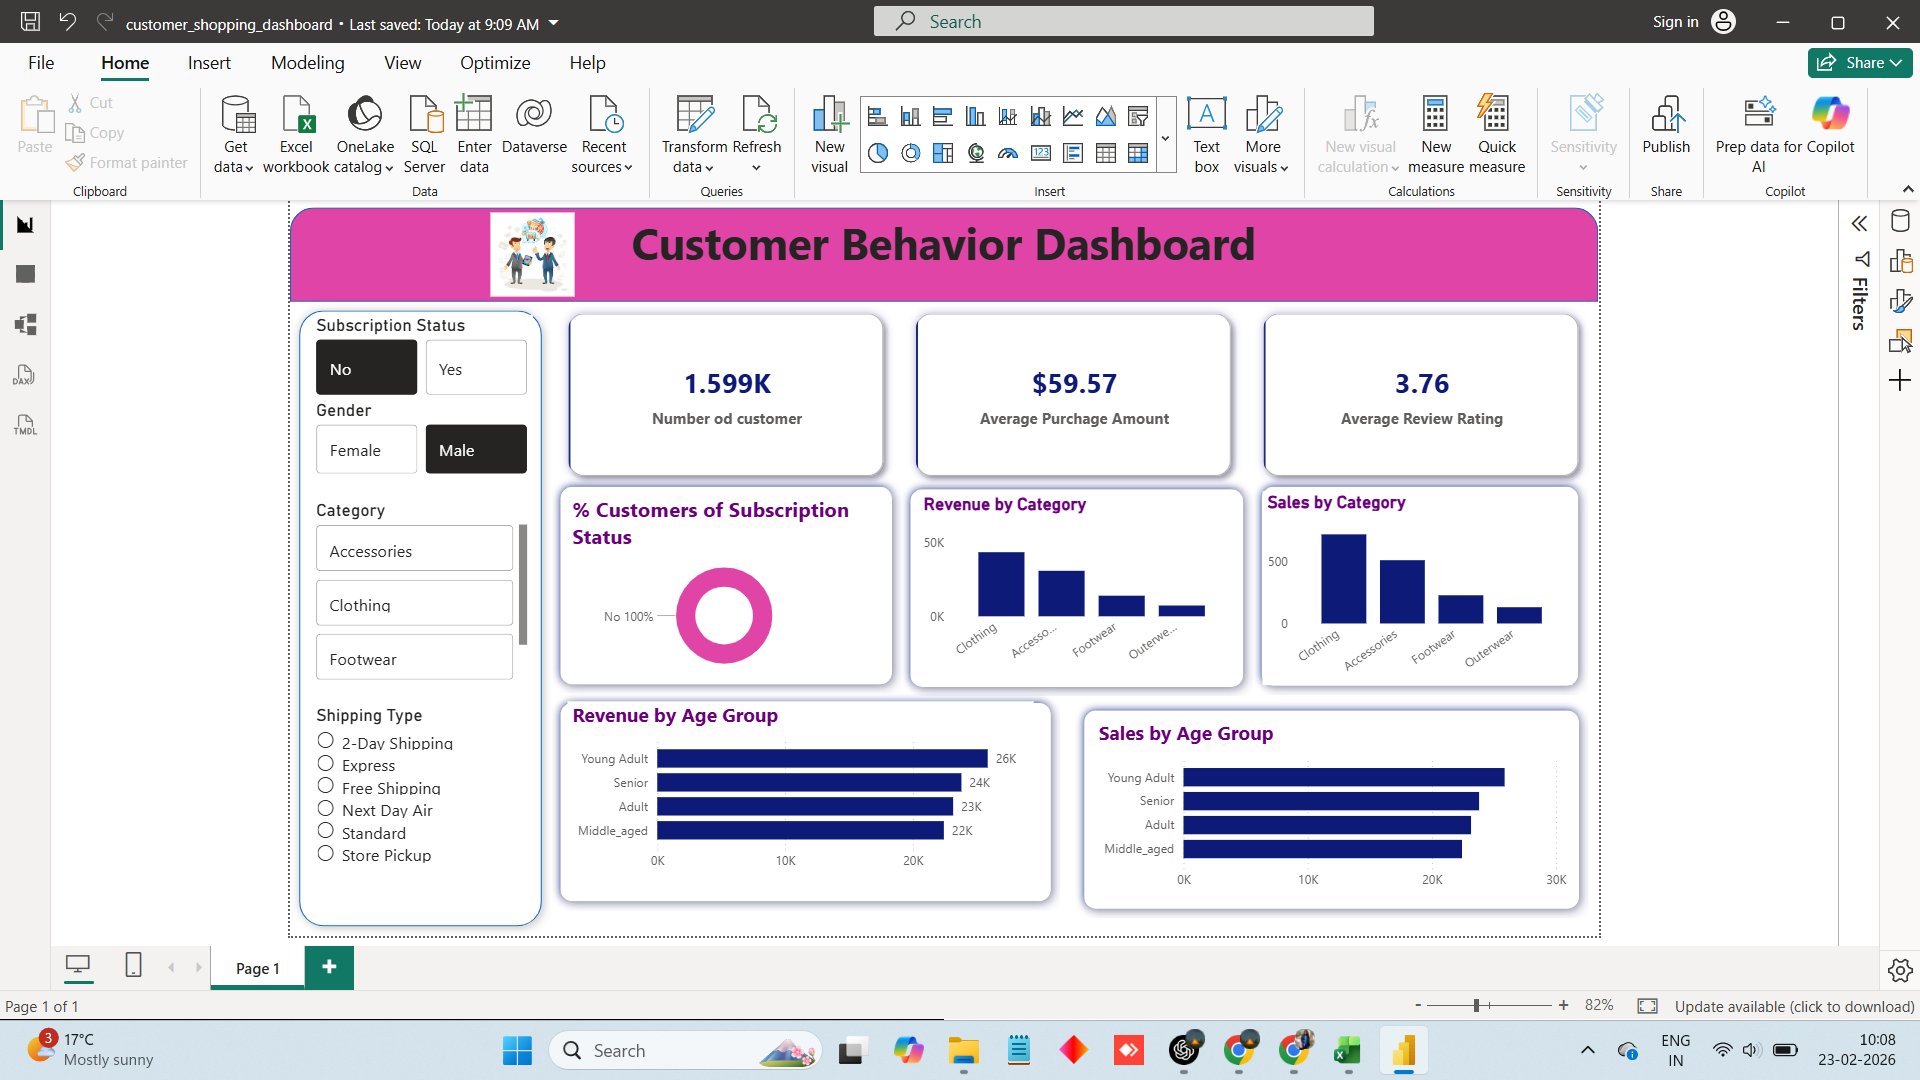

What the dashboard file says about the page in this screenshot:
{"tool":"powerbi","page":{"name":"Page 1","canvas":[1280,720],"ordinal":0},"visuals":[{"type":"cardVisual","fields":{"Data":["customer_shopping customer.Number od customer","customer_shopping customer.Average Purchage Amount","customer_shopping customer.Average Review Rating"]},"box":[255.6,94.2,1024.7,193.2],"z":0},{"type":"shape","box":[255.6,271.5,342.4,211.6],"z":1000},{"type":"shape","box":[0,7.2,1279.7,92.3],"z":2000},{"type":"textbox","box":[10.1,7.2,1259.5,69.3],"z":3000},{"type":"donutChart","title":"% Customers of Subscription Status","fields":{"Category":["customer_shopping customer.subscription_status"],"Y":["CountNonNull(customer_shopping customer.customer_id)"]},"box":[271.5,288.6,306.9,183.4],"z":4000},{"type":"shape","box":[598,273.9,343.6,211.6],"z":5000},{"type":"shape","box":[941.6,271.5,327.7,212.8],"z":6000},{"type":"clusteredColumnChart","title":"Revenue by Category","fields":{"Category":["customer_shopping customer.category"],"Y":["Sum(customer_shopping customer.purchase_amount)"]},"box":[615.1,287.4,310.6,176.1],"z":7000},{"type":"clusteredColumnChart","title":"Sales by Category","fields":{"Category":["customer_shopping customer.category"],"Y":["CountNonNull(customer_shopping customer.customer_id)"]},"box":[951.4,284.9,303.3,189.5],"z":8000},{"type":"shape","box":[0,99.6,255.4,620.4],"z":9000},{"type":"advancedSlicerVisual","fields":{"Values":["customer_shopping customer.subscription_status"]},"box":[20.2,112.5,216.4,83.7],"z":10000},{"type":"advancedSlicerVisual","fields":{"Values":["customer_shopping customer.gender"]},"box":[20.2,196.2,216.4,77.9],"z":11000},{"type":"advancedSlicerVisual","fields":{"Values":["customer_shopping customer.category"]},"box":[20.2,292.9,216.4,180.3],"z":12000},{"type":"shape","box":[255.4,483.3,497.8,212.1],"z":12500},{"type":"clusteredBarChart","title":"Revenue by Age Group","fields":{"Category":["customer_shopping customer.age_group"],"Y":["Sum(customer_shopping customer.purchase_amount)"]},"box":[271.2,490.5,455.9,174.6],"z":13000},{"type":"listSlicer","fields":{"Values":["customer_shopping customer.shipping_type"]},"box":[20.2,493.4,216.4,209.2],"z":14000},{"type":"shape","box":[767.5,490.5,502.1,212.1],"z":15001},{"type":"clusteredBarChart","title":"Sales by Age Group","fields":{"Category":["customer_shopping customer.age_group"],"Y":["Sum(customer_shopping customer.purchase_amount)"]},"box":[786.3,509.3,467.5,174.6],"z":15002},{"type":"image","box":[173.1,7.2,127,92.3],"z":15003}]}

Visuals, with their boxes on the page's 1280x720 design canvas (x1, y1, x2, y2). These are canvas units, not pixel positions in the 1920x1080 screenshot, which may show the page scaled, cropped or inside an application window:
cardVisual - customer_shopping customer.Number od customer x customer_shopping customer.Average Purchage Amount: locate(256, 94, 1280, 287)
shape: locate(256, 272, 598, 483)
shape: locate(0, 7, 1280, 100)
textbox: locate(10, 7, 1270, 76)
"% Customers of Subscription Status" donutChart: locate(272, 289, 578, 472)
shape: locate(598, 274, 942, 486)
shape: locate(942, 272, 1269, 484)
"Revenue by Category" clusteredColumnChart: locate(615, 287, 926, 464)
"Sales by Category" clusteredColumnChart: locate(951, 285, 1255, 474)
shape: locate(0, 100, 255, 720)
advancedSlicerVisual - customer_shopping customer.subscription_status: locate(20, 112, 237, 196)
advancedSlicerVisual - customer_shopping customer.gender: locate(20, 196, 237, 274)
advancedSlicerVisual - customer_shopping customer.category: locate(20, 293, 237, 473)
shape: locate(255, 483, 753, 695)
"Revenue by Age Group" clusteredBarChart: locate(271, 490, 727, 665)
listSlicer - customer_shopping customer.shipping_type: locate(20, 493, 237, 703)
shape: locate(768, 490, 1270, 703)
"Sales by Age Group" clusteredBarChart: locate(786, 509, 1254, 684)
image: locate(173, 7, 300, 100)
